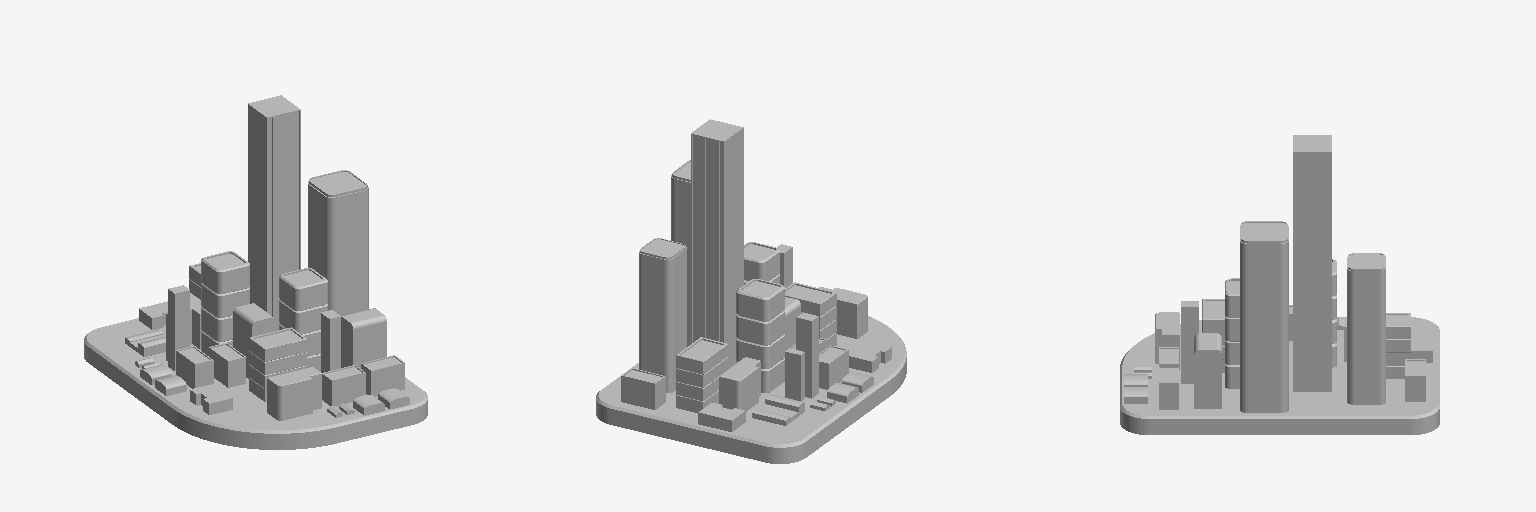
File: cxsczxczxczxczx.obj
The picture shows the model from 3 angles: view 1: azimuth 30°, elevation 25°; view 2: azimuth 150°, elevation 25°; view 3: azimuth 270°, elevation 25°; orthographic projection.
Parts seen in each view (by area): view 1: Cube.185_Cube.420_Cube.185_Cube.420, Cube.153_Cube.021_Cube.153_Cube.021, Cube.184_Cube.419_Cube.184_Cube.419, Cube.186_Cube.421_Cube.186_Cube.421; view 2: Cube.185_Cube.420_Cube.185_Cube.420, Cube.186_Cube.421_Cube.186_Cube.421, Cube.184_Cube.419_Cube.184_Cube.419, Cube.153_Cube.021_Cube.153_Cube.021; view 3: Cube.185_Cube.420_Cube.185_Cube.420, Cube.184_Cube.419_Cube.184_Cube.419, Cube.153_Cube.021_Cube.153_Cube.021, Cube.186_Cube.421_Cube.186_Cube.421.
Boxes of the visible parts, x1,y1,x2,y2 form: Cube.185_Cube.420_Cube.185_Cube.420: [248, 95, 368, 371]; Cube.153_Cube.021_Cube.153_Cube.021: [135, 308, 409, 420]; Cube.184_Cube.419_Cube.184_Cube.419: [84, 318, 427, 449]; Cube.186_Cube.421_Cube.186_Cube.421: [125, 251, 275, 378]; Cube.185_Cube.420_Cube.185_Cube.420: [639, 119, 779, 392]; Cube.186_Cube.421_Cube.186_Cube.421: [621, 279, 818, 431]; Cube.184_Cube.419_Cube.184_Cube.419: [596, 316, 906, 463]; Cube.153_Cube.021_Cube.153_Cube.021: [777, 244, 891, 410]; Cube.185_Cube.420_Cube.185_Cube.420: [1225, 135, 1385, 412]; Cube.184_Cube.419_Cube.184_Cube.419: [1120, 317, 1439, 434]; Cube.153_Cube.021_Cube.153_Cube.021: [1124, 299, 1343, 409]; Cube.186_Cube.421_Cube.186_Cube.421: [1332, 259, 1432, 401].
Bounding box in the file's own units: 12.23 × 14.62 × 16.44.